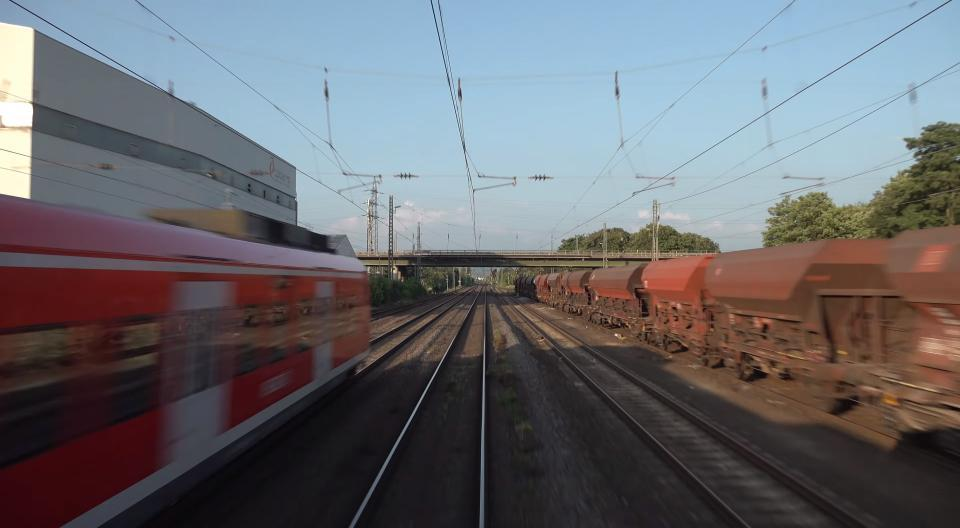Plant: (493, 330, 506, 352)
